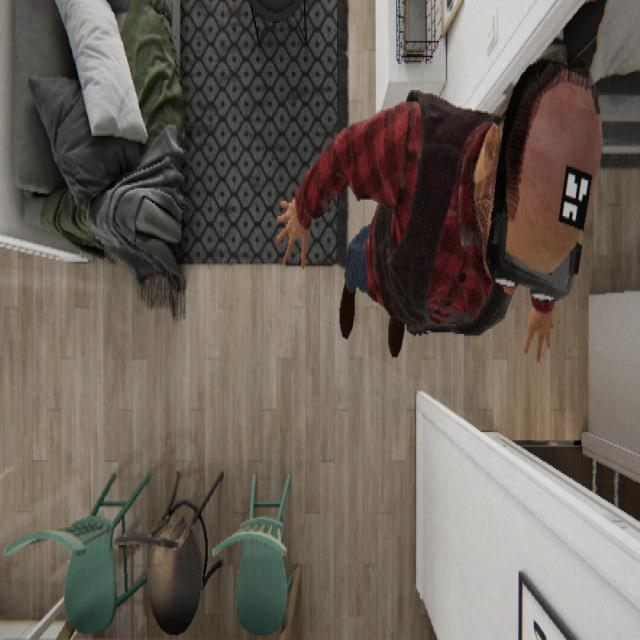AruCO: (557, 160, 592, 232)
Human: (275, 52, 603, 362)
